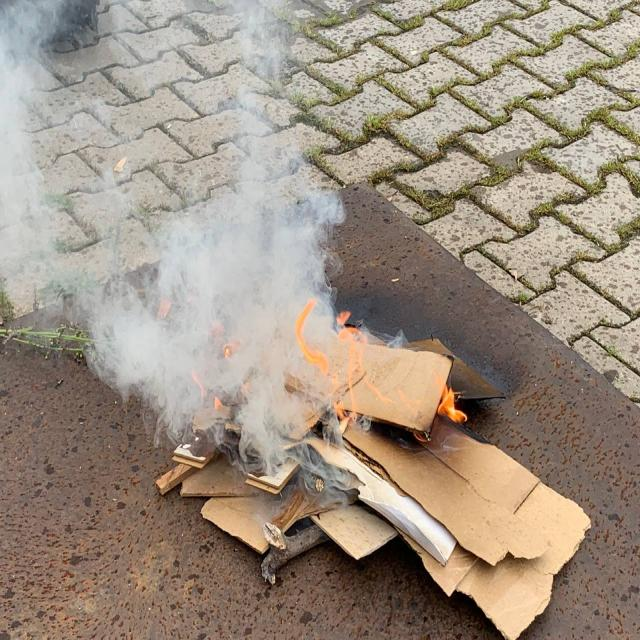fire: (226, 279, 463, 488)
